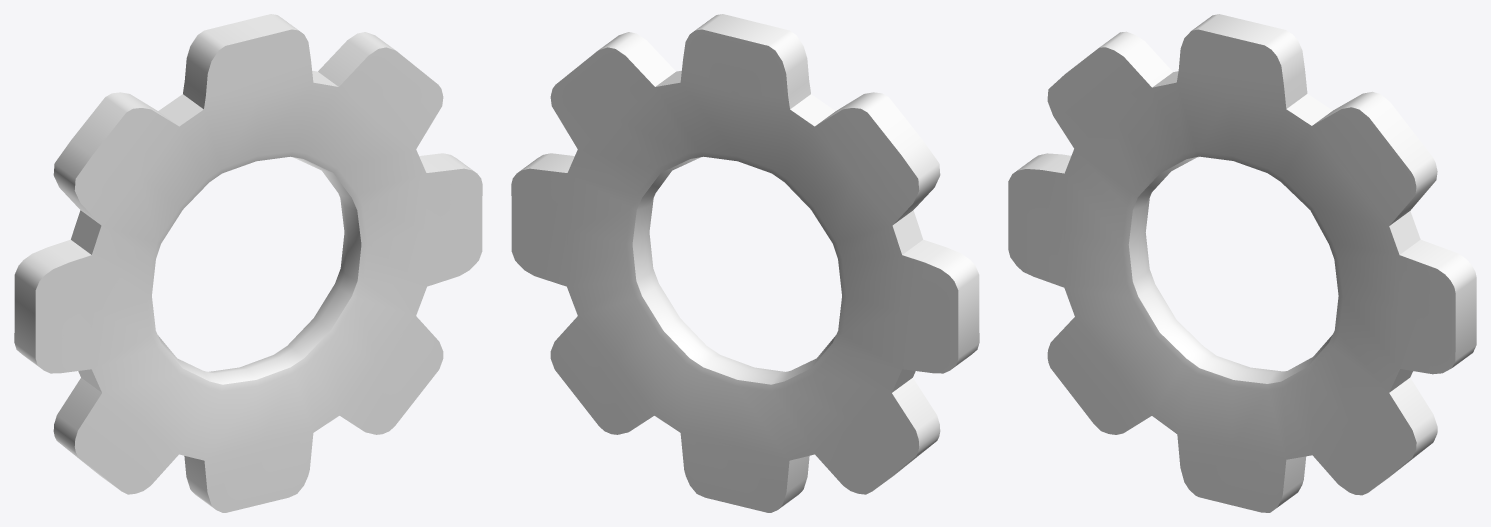
File: Setting_3.fbx
3 views of the same model, side by side, from view 1: azimuth 30°, elevation 25°; view 2: azimuth 150°, elevation 25°; view 3: azimuth 330°, elevation 25° (orthographic).
Visible parts, largest first — view 1: Setting_3; view 2: Setting_3; view 3: Setting_3.
Boxes of the visible parts, <box> form: Setting_3: <box>14,14,482,512</box>; Setting_3: <box>511,14,979,512</box>; Setting_3: <box>1008,14,1476,512</box>.
Size of the model in its own units: 0.1607 by 0.1606 by 0.0131.
